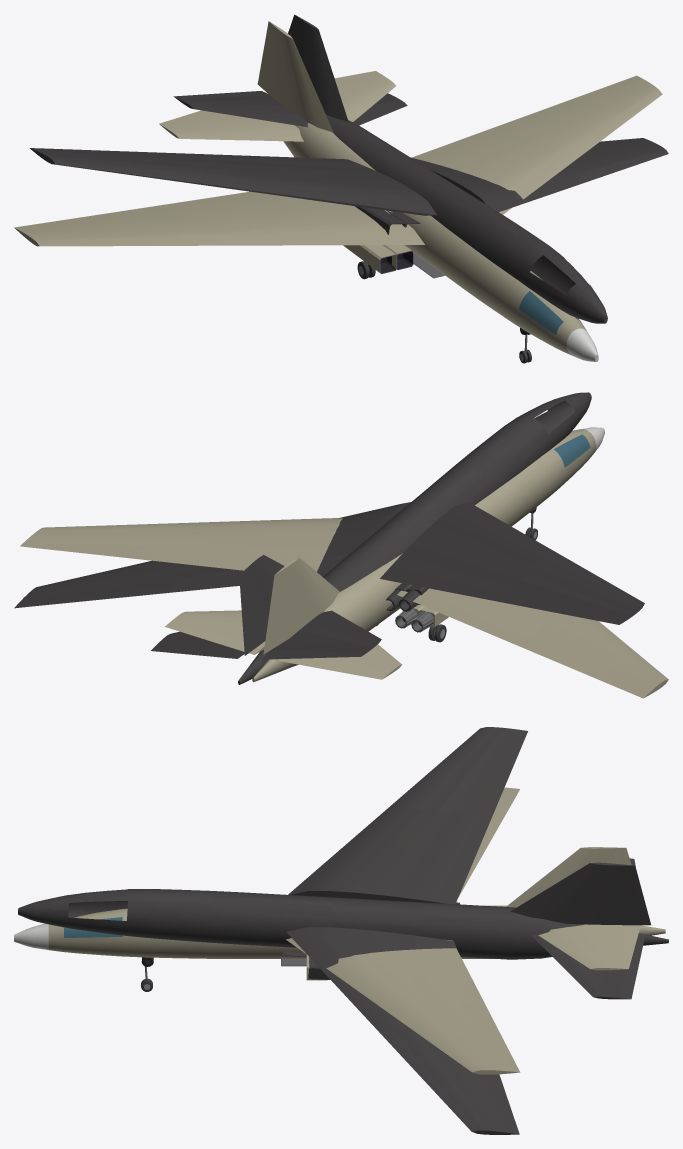
File: bomber__tu_160m.glb
3 renders of one model, top to bottom at view 1: azimuth 30°, elevation 25°; view 2: azimuth 150°, elevation 25°; view 3: azimuth 270°, elevation 25°, orthographic. The views are drawn at different scales.
Parts seen in each view (by area): view 1: Fuselage_Mesh, Wreck; view 2: Wreck, Fuselage_Mesh; view 3: Wreck, Fuselage_Mesh.
Part boxes in pixels (bbox=[...]): Fuselage_Mesh: bbox=[14, 21, 662, 363]; Wreck: bbox=[30, 14, 668, 334]; Wreck: bbox=[14, 392, 644, 684]; Fuselage_Mesh: bbox=[20, 427, 668, 698]; Wreck: bbox=[18, 727, 668, 1134]; Fuselage_Mesh: bbox=[14, 787, 665, 1074].
Size of what is drawn, in the model's own units: 56.28 by 13.1 by 54.39.
